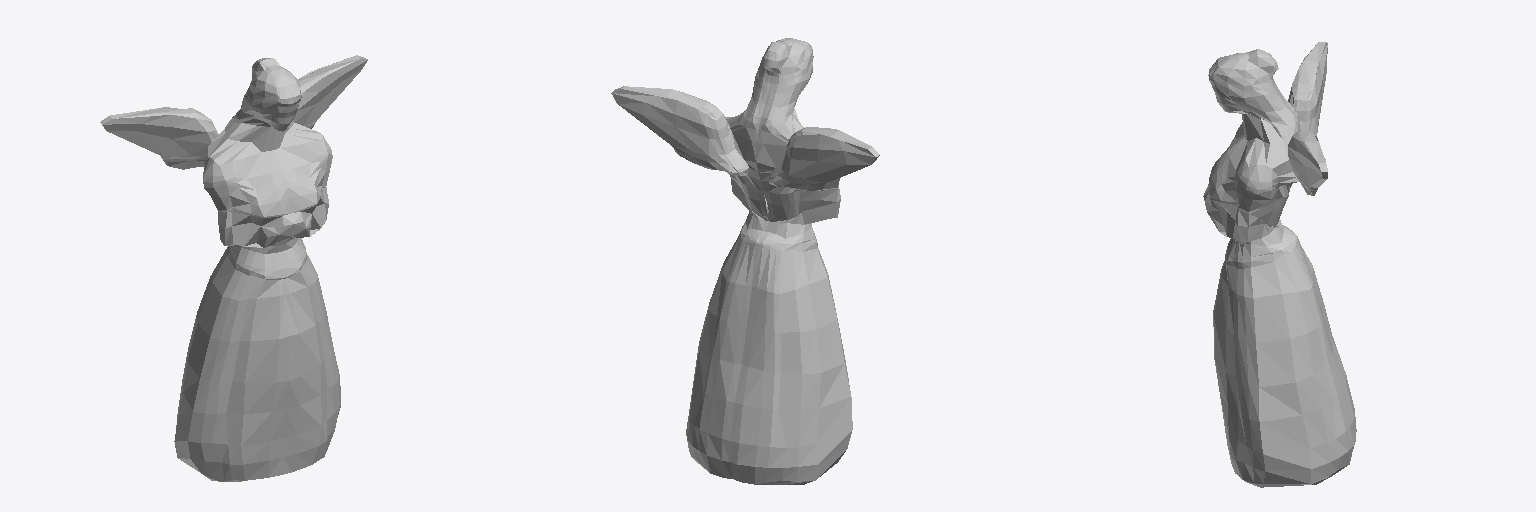
The model's file is statue o lp.obj.
3 views of the same model, side by side, from view 1: azimuth 30°, elevation 25°; view 2: azimuth 150°, elevation 25°; view 3: azimuth 270°, elevation 25° (orthographic).
Visible parts, largest first — view 1: Cube_Cube.001; view 2: Cube_Cube.001; view 3: Cube_Cube.001.
Part boxes in pixels (bbox=[...]): Cube_Cube.001: bbox=[100, 55, 367, 481]; Cube_Cube.001: bbox=[611, 38, 879, 484]; Cube_Cube.001: bbox=[1203, 42, 1356, 487].
Size of the model in its own units: 9.38 by 13.82 by 4.68.